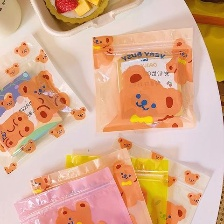snack: (9, 130, 216, 224), (0, 22, 96, 179), (88, 20, 200, 137)
